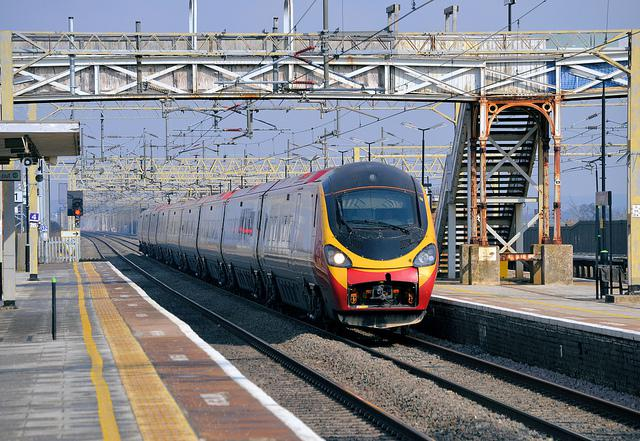Train: (134, 161, 444, 332)
